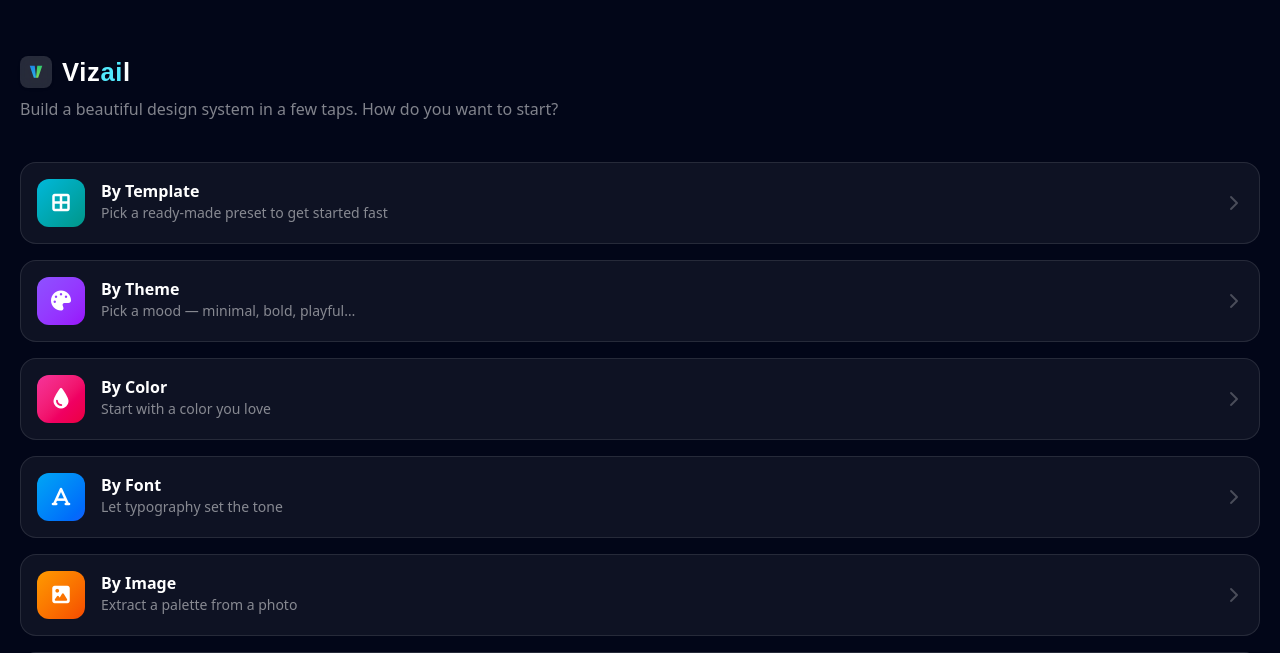
Test: MobileFlowShell › navigates to the image pick step when "By Image" is tapped
Click the button with aria-label "Start by By Image" at (61, 595), box [20,554,1260,636]
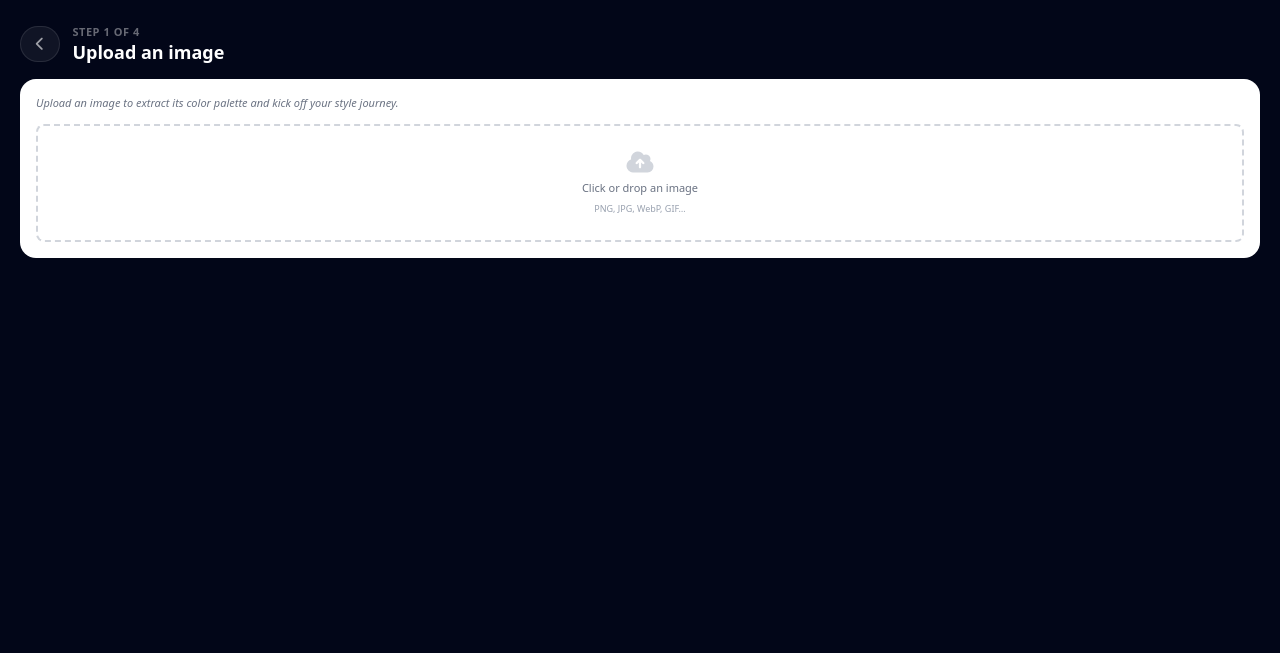
Expected: the heading "Upload an image" is shown, [72,40,224,63]
